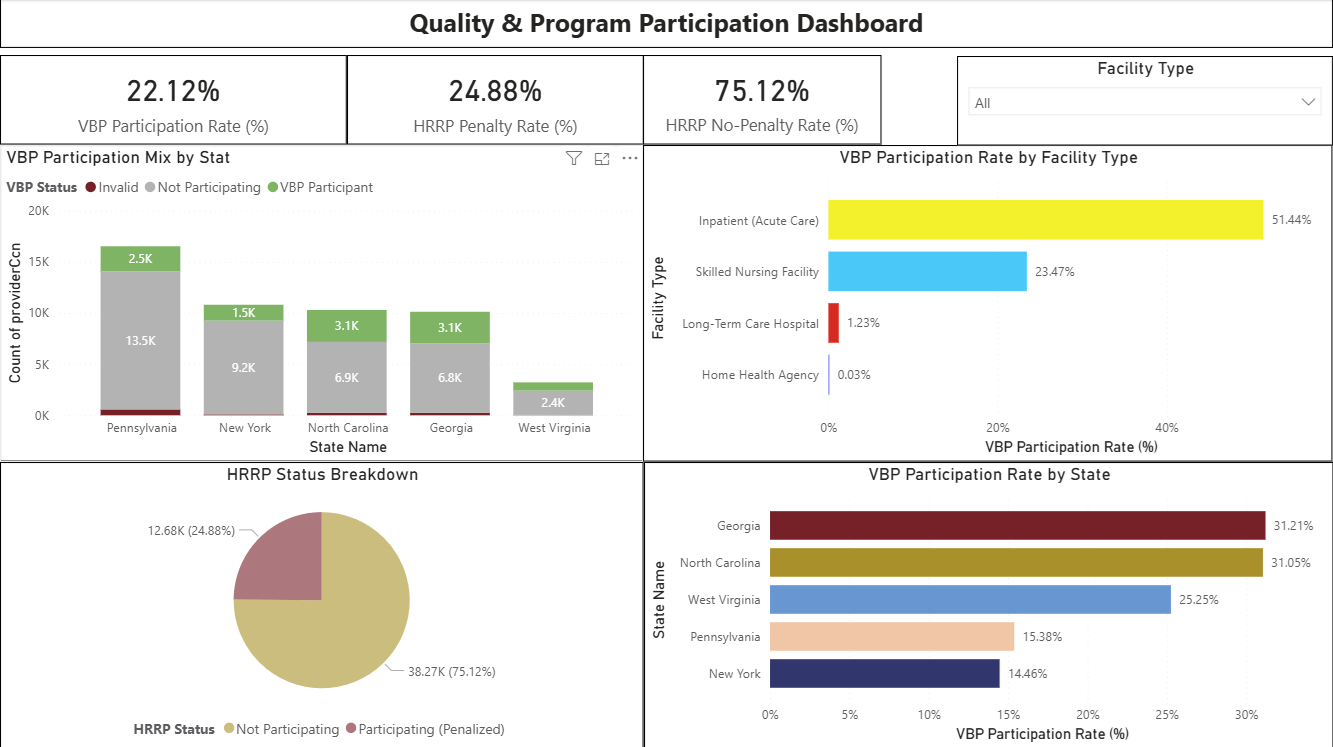

The page's visual inventory and layout, read from the dashboard file:
{"tool":"powerbi","page":{"name":"Page 3","canvas":[1280,720],"ordinal":2},"visuals":[{"type":"textbox","box":[0,0,1280,47],"z":0},{"type":"card","fields":{"Values":["All_Measures.VBP Participation Rate (%)"]},"box":[0,54,333,86],"z":1000},{"type":"card","fields":{"Values":["All_Measures.HRRP Penalty Rate (%)"]},"box":[333,54,285,86],"z":2000},{"type":"card","fields":{"Values":["All_Measures.HRRP No-Penalty Rate (%)"]},"box":[617.6,54.1,228.6,85.8],"z":3000},{"type":"columnChart","title":"VBP Participation Mix by Stat","fields":{"Category":["State Refrence Data.State Name"],"Y":["CountNonNull(provider_specific_file.providerCcn)"],"Series":["provider_specific_file.VBP Status"]},"box":[0,140.6,617.8,303.9],"z":4000},{"type":"pieChart","title":"HRRP Status Breakdown","fields":{"Y":["CountNonNull(provider_specific_file.providerCcn)"],"Category":["provider_specific_file.HRRP Status"]},"box":[0,444.5,617.8,275.8],"z":5000},{"type":"clusteredBarChart","title":"VBP Participation Rate by Facility Type","fields":{"Category":["Provider Type.Facility Type "],"Y":["All_Measures.VBP Participation Rate (%)"]},"box":[617.8,140.6,662.2,303.9],"z":6000},{"type":"barChart","title":"VBP Participation Rate by State","fields":{"Category":["State Refrence Data.State Name"],"Y":["All_Measures.VBP Participation Rate (%)"]},"box":[618,445,662,275],"z":7000},{"type":"slicer","title":"Facility Type","fields":{"Values":["Provider Type.Facility Type "]},"box":[919,54.4,361,86.2],"z":8000}]}

Visuals, with their boxes in screenshot pixels (x1, y1, x2, y2), scaled from the page's 1280x720 canvas onto the 1333x747 screenshot:
textbox: [left=0, top=0, right=1332, bottom=49]
card - All_Measures.VBP Participation Rate (%): [left=0, top=56, right=347, bottom=145]
card - All_Measures.HRRP Penalty Rate (%): [left=347, top=56, right=644, bottom=145]
card - All_Measures.HRRP No-Penalty Rate (%): [left=643, top=56, right=881, bottom=145]
"VBP Participation Mix by Stat" columnChart: [left=0, top=146, right=643, bottom=461]
"HRRP Status Breakdown" pieChart: [left=0, top=461, right=643, bottom=746]
"VBP Participation Rate by Facility Type" clusteredBarChart: [left=643, top=146, right=1332, bottom=461]
"VBP Participation Rate by State" barChart: [left=644, top=462, right=1332, bottom=746]
"Facility Type" slicer: [left=957, top=56, right=1332, bottom=146]
